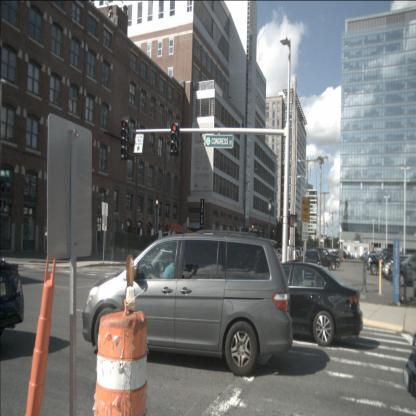movable_object-trafficcone: (93, 253, 149, 415), (25, 254, 56, 416)
vehicle-car: (82, 233, 293, 377), (231, 260, 364, 348), (367, 248, 405, 275), (388, 254, 416, 288), (384, 254, 416, 282), (308, 248, 340, 271), (302, 249, 322, 278), (315, 247, 340, 266), (362, 250, 384, 266), (336, 250, 347, 260)
